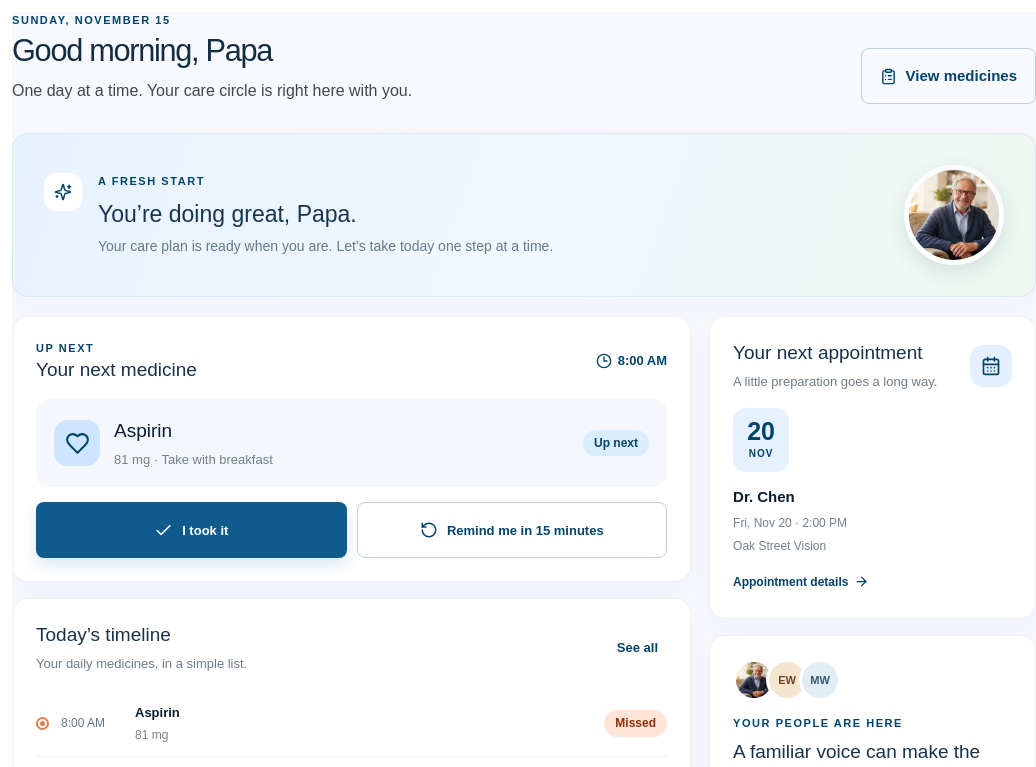
elder home check-in › saves the I took it dose action for today
Click the button "I took it": [191, 530] box [36,502,346,558]
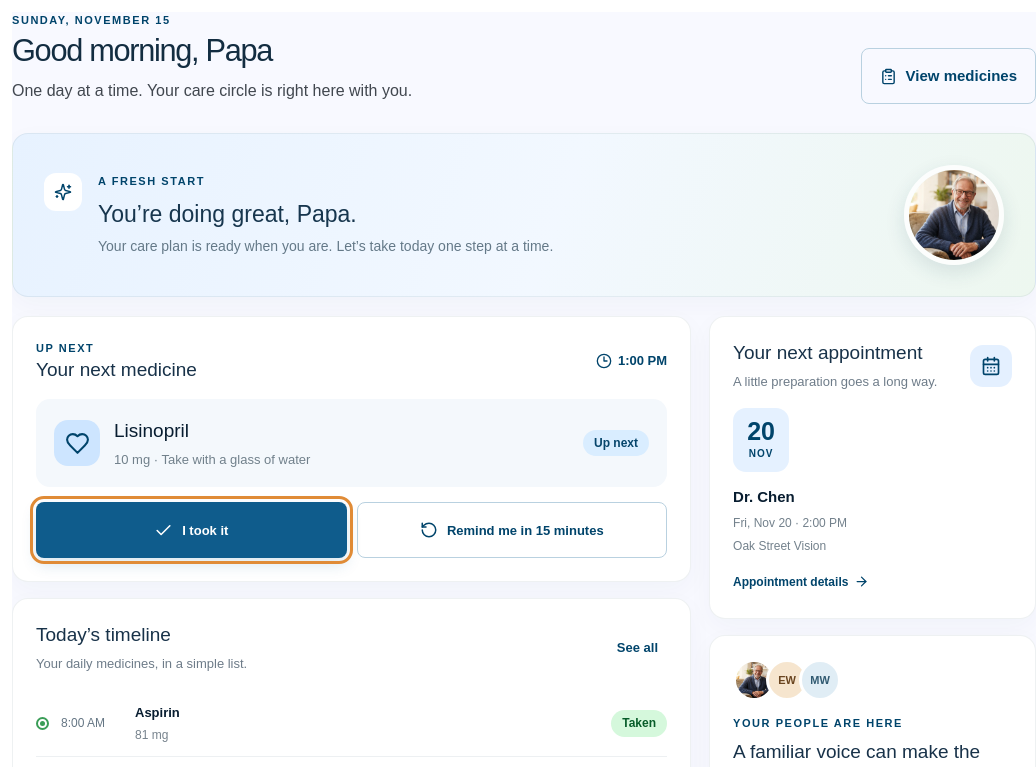
Result: the heading "Lisinopril" is shown at [114,420,189,441]
